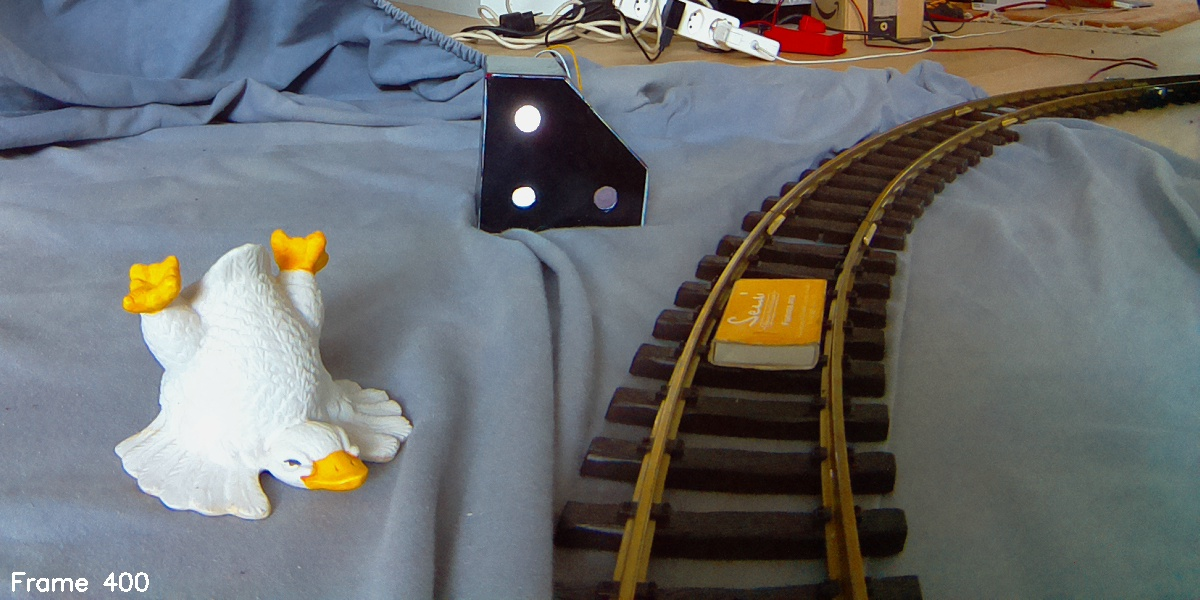Ente: (114, 224, 417, 521)
Fahrt: (487, 53, 648, 236)
